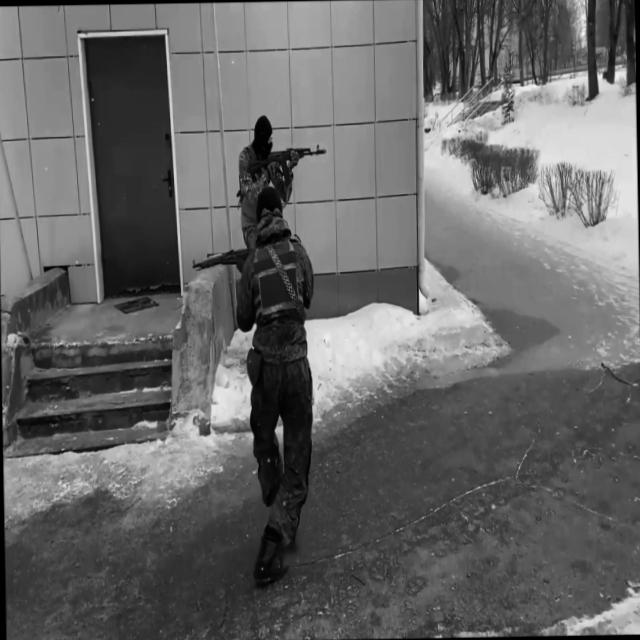gun: (246, 140, 328, 192), (190, 242, 258, 278)
person with a gun: (189, 185, 318, 587), (235, 112, 330, 250)
